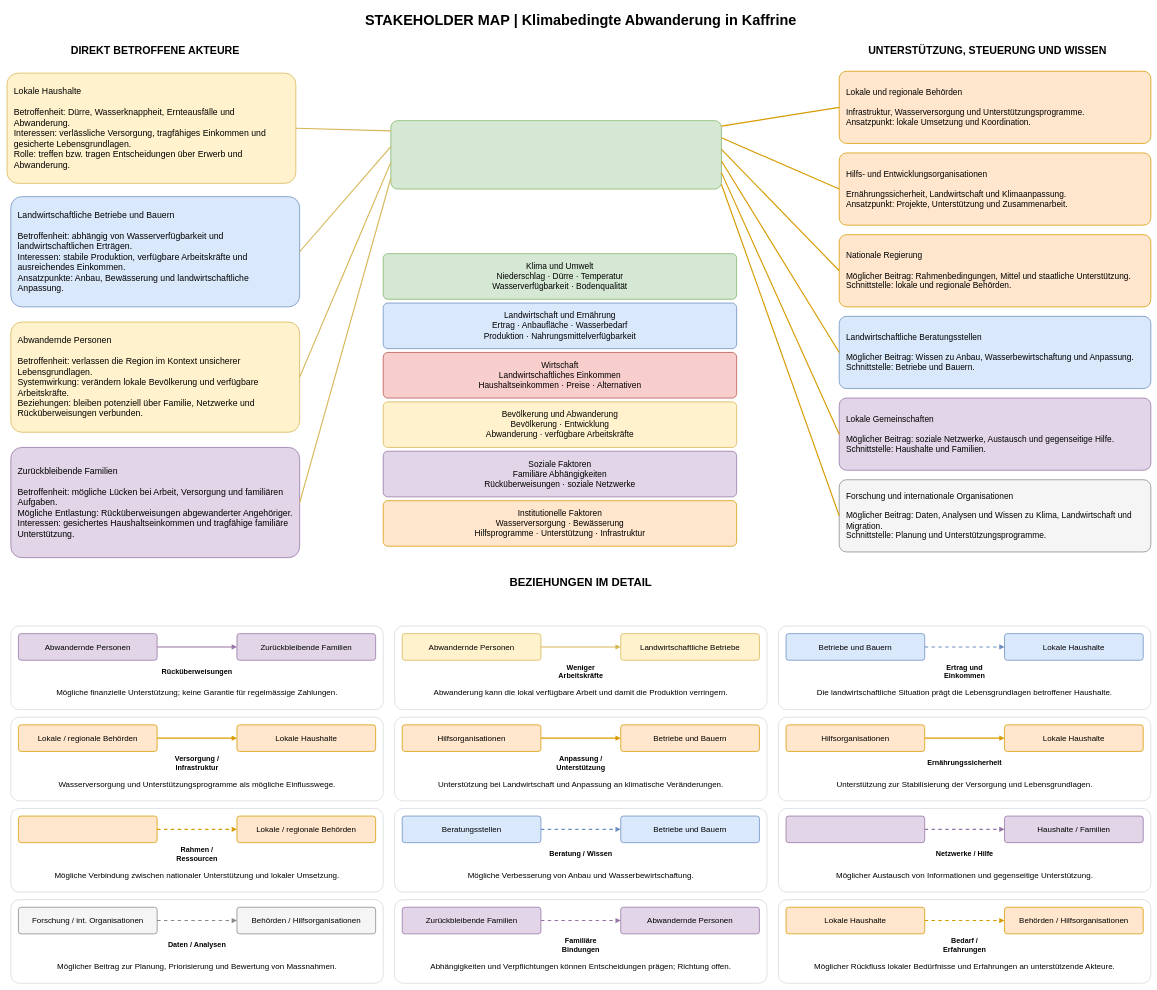
This 1157x990 diagram has some shape labels left out. The centre of each missing label's shape, as x and y in pixels:
"Lokale Gemeinschaften" belongs at [855,829].
"Nationale Regierung" belongs at [87,829].
"SYSTEMKERN Klimabedingte Abwanderung in Kaffrine" belongs at [556,154].
